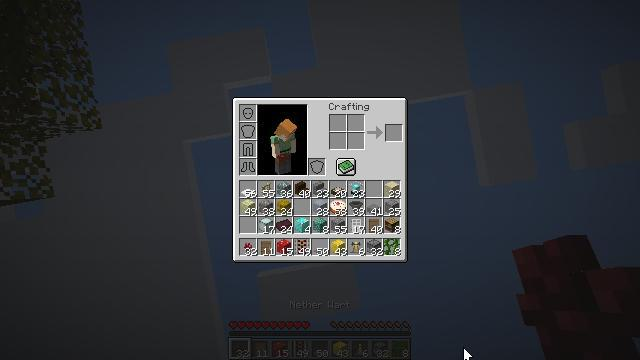cursor: (463, 347, 473, 360)
